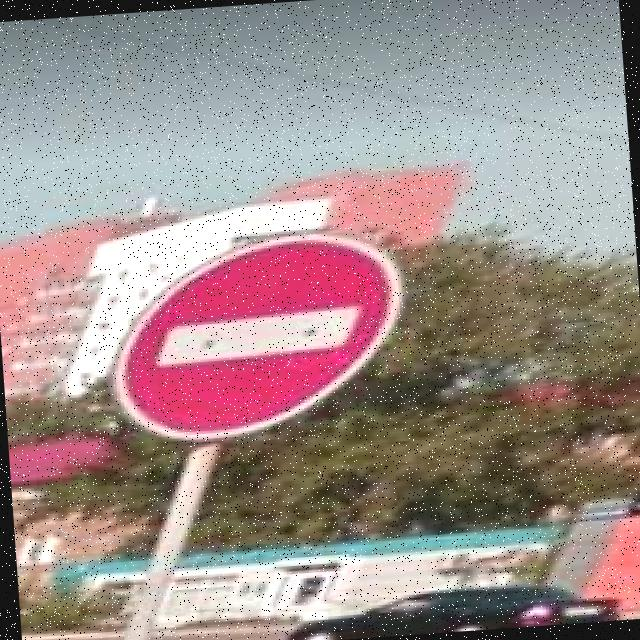Zakaz wjazdu: (100, 228, 417, 450)
